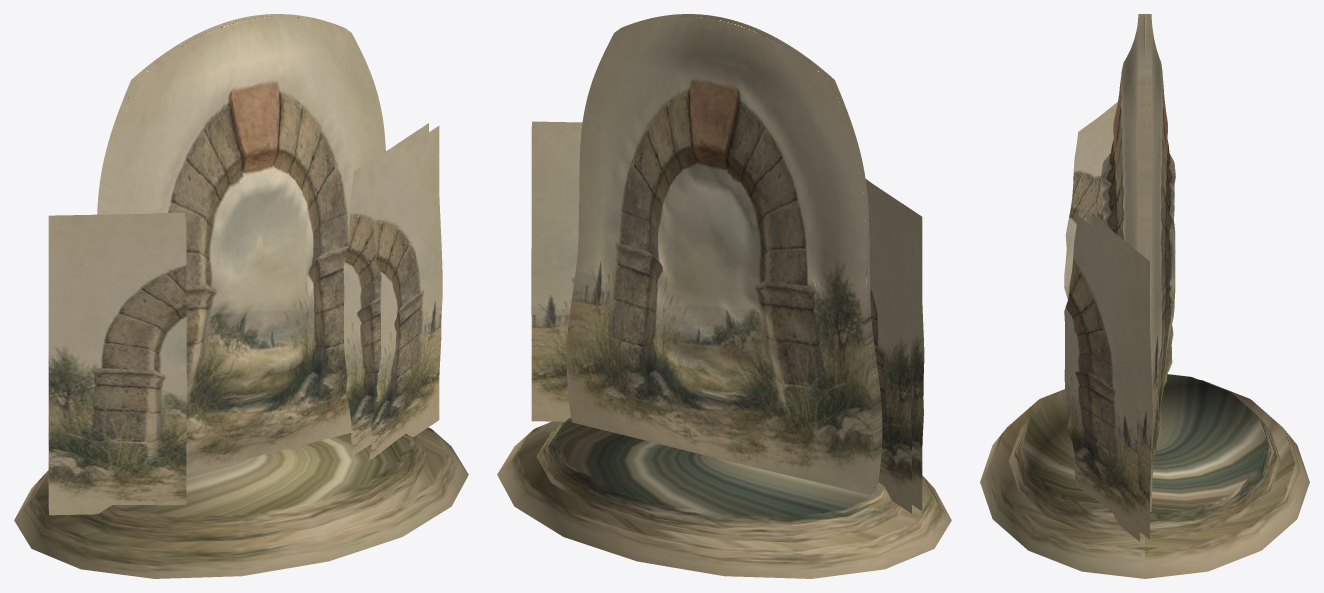
File: held-together-6.glb
The picture shows the model from 3 angles, left to right: view 1: azimuth 30°, elevation 25°; view 2: azimuth 150°, elevation 25°; view 3: azimuth 270°, elevation 25°; orthographic projection. The views are drawn at different scales.
Visible parts, largest first — view 1: PaintingSculptureMonument; view 2: PaintingSculptureMonument; view 3: PaintingSculptureMonument.
Part boxes in pixels (x1,y1,x2,y2): PaintingSculptureMonument: (14, 14, 468, 578); PaintingSculptureMonument: (497, 14, 951, 578); PaintingSculptureMonument: (980, 14, 1309, 578).
Size of the model in its own units: 2.76 by 2.99 by 1.99.
Materials: 1 (1 with a texture image).
